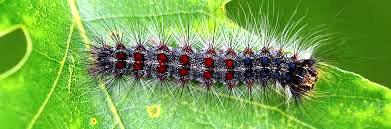Caterpillar: (90, 26, 327, 107)
